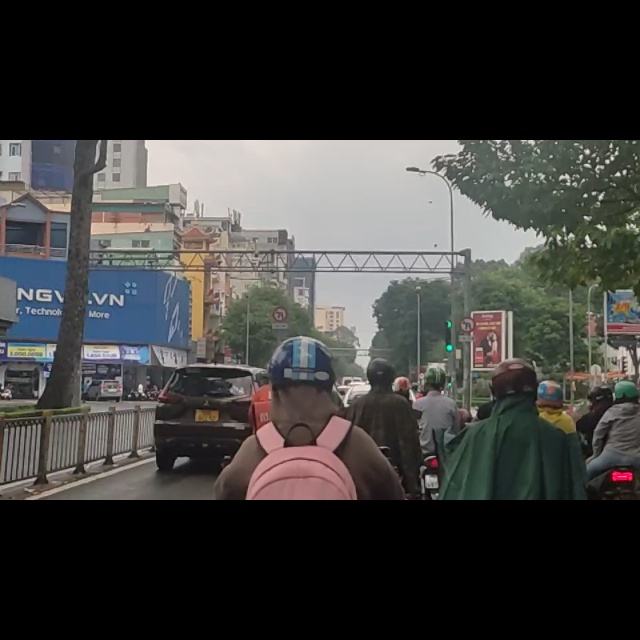bien_cam: (459, 315, 476, 347), (272, 294, 289, 326)
